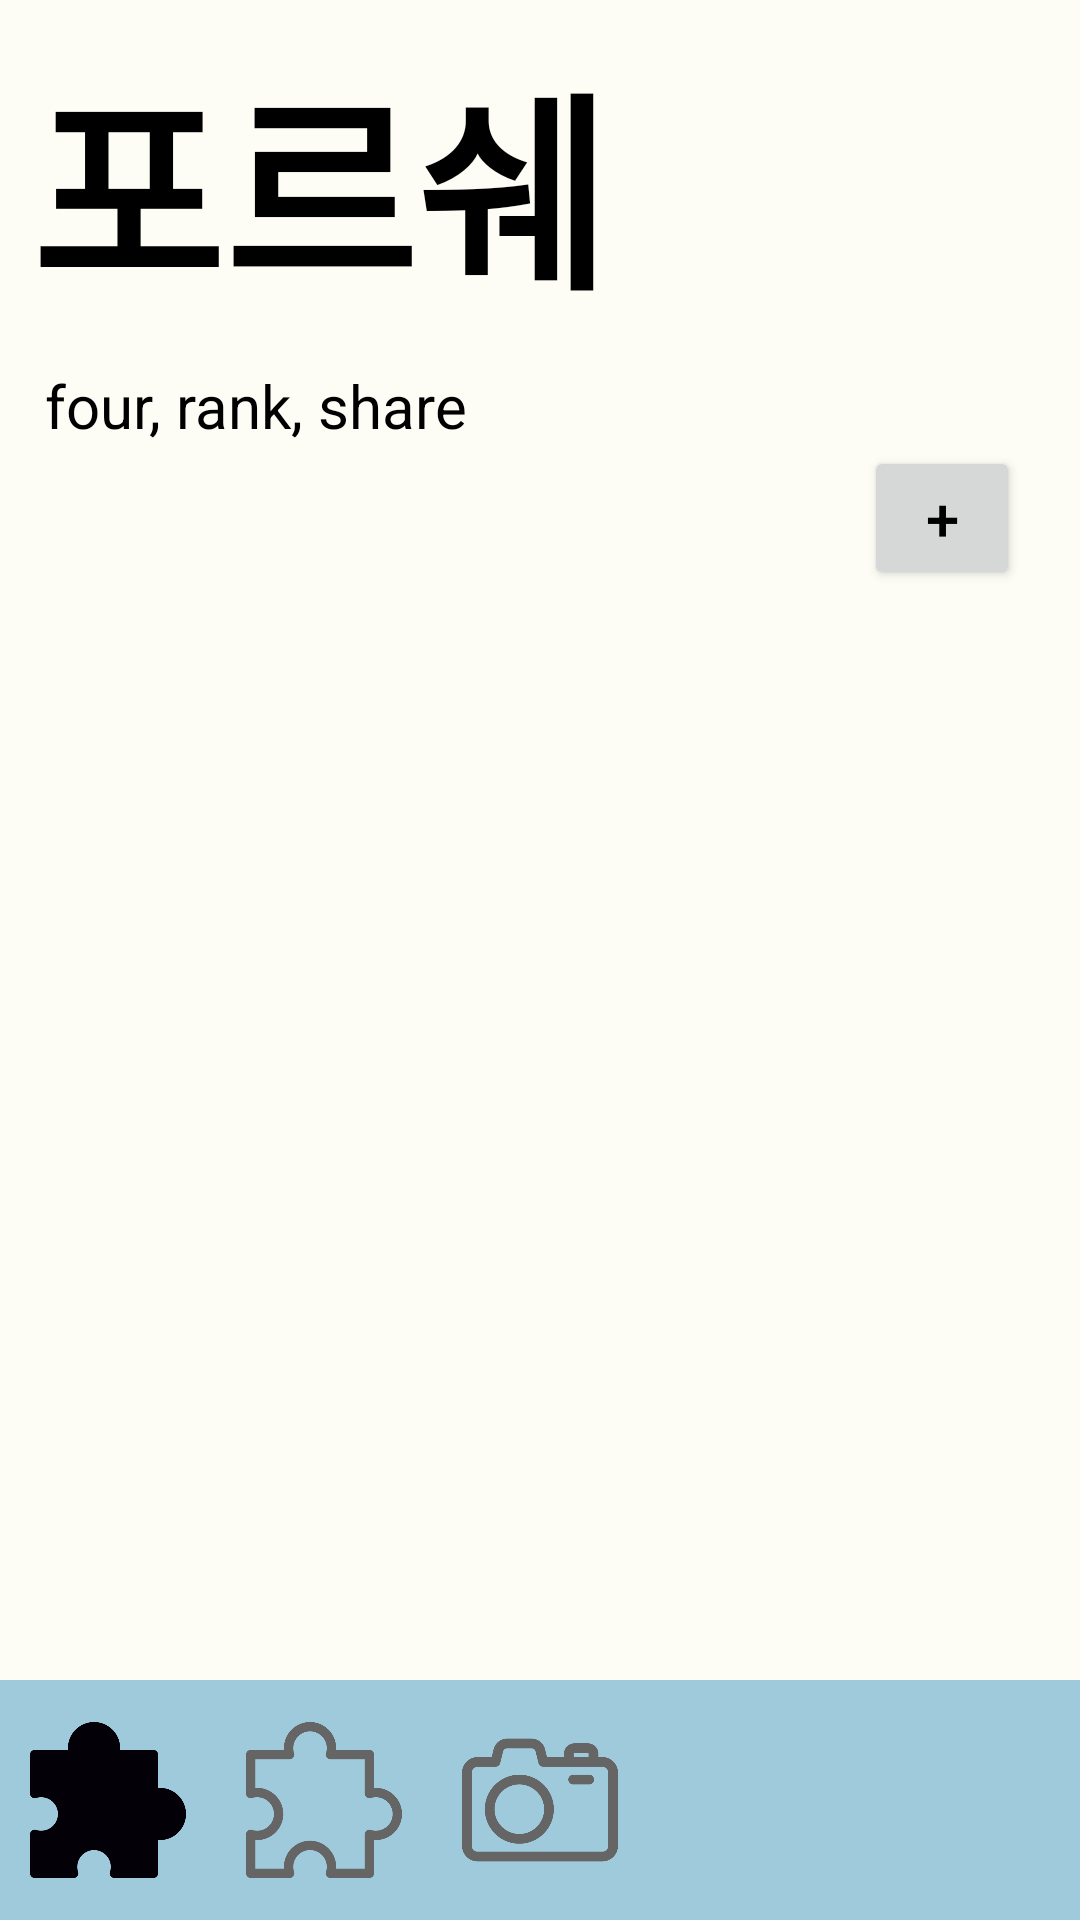

Named icons in this screenshot (1080 x 1920) and their centers, (x,y):
scan: (540,1800)
